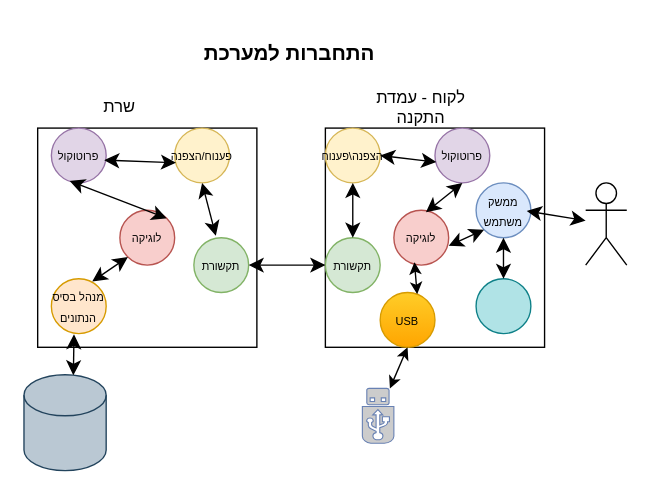
Image size: 651x495. Some labels were removed from this diagram. Here are the shapes that lost their labels. From the top down, the centre of each, then its label:
the point at 605,223: Actor
the point at 503,305: בדיקות תקינות
